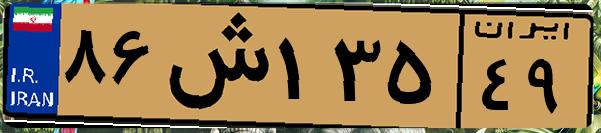1: (270, 28, 330, 110)
3: (330, 28, 385, 110)
4: (475, 38, 525, 113)
5: (385, 28, 445, 110)
6: (110, 28, 158, 98)
8: (57, 26, 110, 100)
9: (525, 38, 570, 115)
ش: (158, 12, 270, 120)
